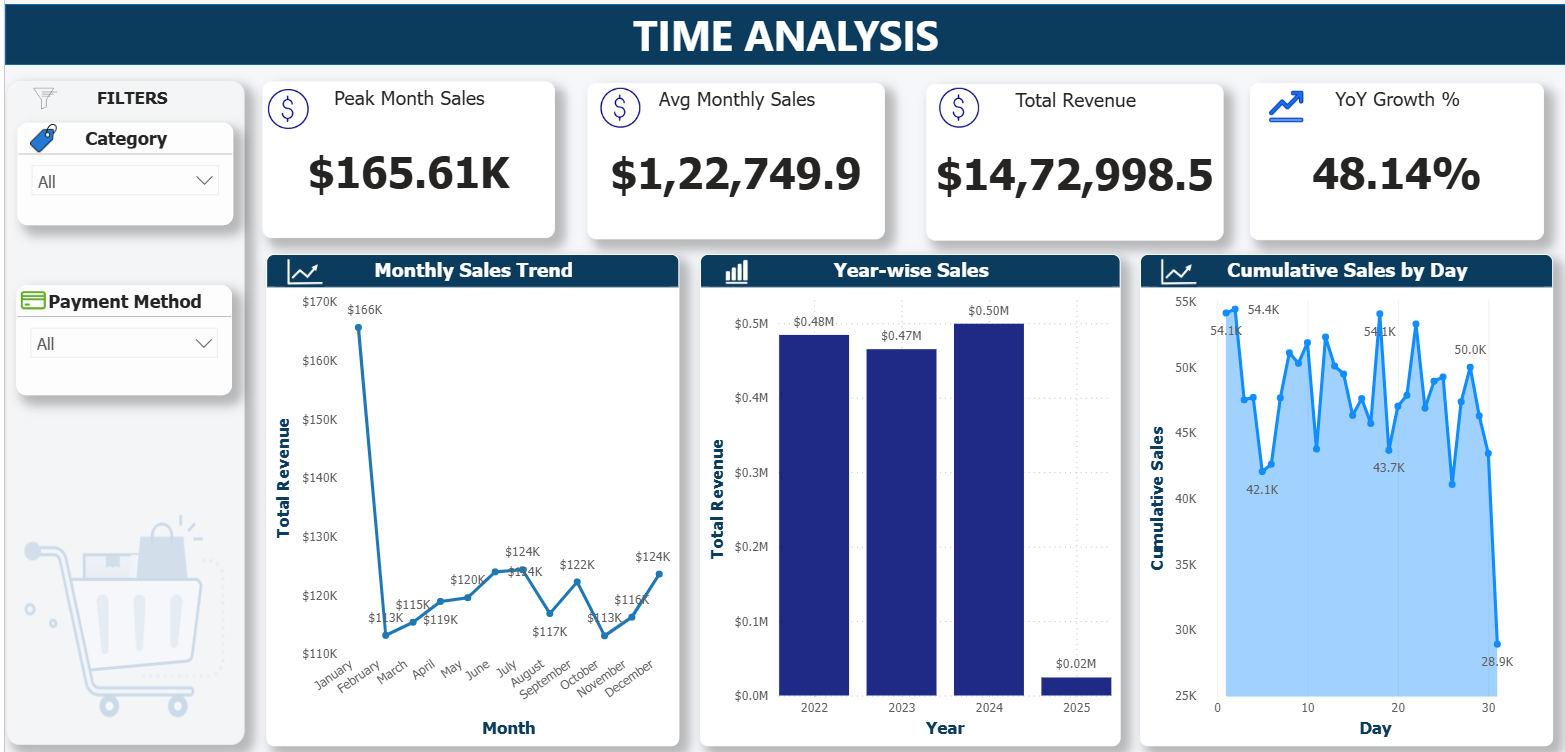

The dashboard page shown, as its layout file describes it:
{"tool":"powerbi","page":{"name":"TIME ANALYSIS","canvas":[1500,720],"ordinal":4},"visuals":[{"type":"shape","box":[0,0,1500,58.6],"z":0},{"type":"card","title":"Peak Month Sales","fields":{"Values":["sales_cleaned.Peak Month Sales"]},"box":[247.1,74.3,280.8,150],"z":0,"group":"g3"},{"type":"image","box":[1.2,73.8,228.8,638.8],"z":1000},{"type":"card","title":"Avg Monthly Sales","fields":{"Values":["sales_cleaned.Avg Monthly Sales"]},"box":[560,75.7,285.7,150],"z":2000},{"type":"group","id":"g1","title":"Group 1","box":[1195.7,75.7,282.4,150.9],"z":3000},{"type":"slicer","title":"Category","fields":{"Values":["sales_cleaned.Category"]},"box":[11.4,114.3,207.1,98.6],"z":3000,"group":"g7"},{"type":"group","id":"g2","title":"Group 2","box":[884.3,77.1,285.7,150],"z":4000},{"type":"slicer","title":"Payment Method","fields":{"Values":["sales_cleaned.Payment Method"]},"box":[11.1,270,207.5,105.7],"z":4000,"group":"g6"},{"type":"group","id":"g3","title":"Group 3","box":[247.1,74.3,280.8,150],"z":5000},{"type":"group","id":"g4","title":"Group 4","box":[251.4,240,397.1,472.9],"z":6000},{"type":"textbox","box":[7.1,75.2,230,42.5],"z":7000,"group":"g8"},{"type":"group","id":"g5","title":"Group 5","box":[667.1,240,404.3,472.9],"z":7000},{"type":"image","box":[10.7,66.7,55.7,47.1],"z":8000,"group":"g8"},{"type":"group","id":"g6","title":"Group 9","box":[11.1,270,207.5,105.7],"z":8000},{"type":"group","id":"g7","title":"Group 10","box":[11.4,114.3,207.1,98.6],"z":9000},{"type":"image","box":[18.5,115.7,35.7,27.1],"z":9000,"group":"g7"},{"type":"group","id":"g8","title":"Group 11","box":[7.1,66.7,230,51],"z":10000},{"type":"image","box":[12.5,272.9,30,24.3],"z":10000,"group":"g6"},{"type":"group","id":"g9","title":"Group 4","box":[1089.6,240,397.1,472.9],"z":11000},{"type":"image","box":[570,80,41.4,38.6],"z":12000},{"type":"image","box":[895.7,80,41.4,38.6],"z":13000},{"type":"image","box":[248.8,81,47.1,38.6],"z":14000,"group":"g3"},{"type":"lineChart","title":"Monthly Sales Trend","fields":{"Category":["sales_cleaned.Transaction Date.Variation.Date Hierarchy.Month"],"Y":["sales_cleaned.Total Revenue"]},"box":[251.4,240,397.1,472.9],"z":15000,"group":"g4"},{"type":"areaChart","title":"Cumulative Sales by Day","fields":{"Y":["sales_cleaned.Cumulative Sales"],"Category":["sales_cleaned.Transaction Date.Variation.Date Hierarchy.Day"]},"box":[1089.6,240,397.1,472.9],"z":15000,"group":"g9"},{"type":"columnChart","title":"Year-wise Sales","fields":{"Category":["sales_cleaned.Year"],"Y":["sales_cleaned.Total Revenue"]},"box":[667.1,240,404.3,472.9],"z":16000,"group":"g5"},{"type":"card","title":"Total Revenue","fields":{"Values":["sales_cleaned.Total Revenue"]},"box":[884.3,77.1,285.7,150],"z":17000,"group":"g2"},{"type":"card","title":"YoY Growth %","fields":{"Values":["sales_cleaned.YoY Growth %"]},"box":[1195.7,75.7,282.4,150.9],"z":18000,"group":"g1"},{"type":"image","box":[1204.7,80.4,52.9,35.7],"z":20000,"group":"g1"},{"type":"image","box":[268.5,241.4,40,30],"z":20001,"group":"g4"},{"type":"image","box":[1106.7,241.4,40,30],"z":20001,"group":"g9"},{"type":"image","box":[682.8,240,38.6,34.3],"z":20002,"group":"g5"}]}

Visuals, with their boxes in screenshot pixels (x1, y1, x2, y2), scaled from the page's 1500x720 canvas onto the 1565x752 screenshot:
shape: bbox(0, 0, 1564, 61)
"Peak Month Sales" card: bbox(258, 78, 551, 234)
image: bbox(1, 77, 240, 744)
"Avg Monthly Sales" card: bbox(584, 79, 882, 236)
"Group 1" group: bbox(1248, 79, 1542, 237)
"Category" slicer: bbox(12, 119, 228, 222)
"Group 2" group: bbox(923, 81, 1221, 237)
"Payment Method" slicer: bbox(12, 282, 228, 392)
"Group 3" group: bbox(258, 78, 551, 234)
"Group 4" group: bbox(262, 251, 677, 745)
textbox: bbox(7, 79, 247, 123)
"Group 5" group: bbox(696, 251, 1118, 745)
image: bbox(11, 70, 69, 119)
"Group 9" group: bbox(12, 282, 228, 392)
"Group 10" group: bbox(12, 119, 228, 222)
image: bbox(19, 121, 57, 149)
"Group 11" group: bbox(7, 70, 247, 123)
image: bbox(13, 285, 44, 310)
"Group 4" group: bbox(1137, 251, 1551, 745)
image: bbox(595, 84, 638, 124)
image: bbox(935, 84, 978, 124)
image: bbox(260, 85, 309, 125)
"Monthly Sales Trend" lineChart: bbox(262, 251, 677, 745)
"Cumulative Sales by Day" areaChart: bbox(1137, 251, 1551, 745)
"Year-wise Sales" columnChart: bbox(696, 251, 1118, 745)
"Total Revenue" card: bbox(923, 81, 1221, 237)
"YoY Growth %" card: bbox(1248, 79, 1542, 237)
image: bbox(1257, 84, 1312, 121)
image: bbox(280, 252, 322, 283)
image: bbox(1155, 252, 1196, 283)
image: bbox(712, 251, 753, 286)
